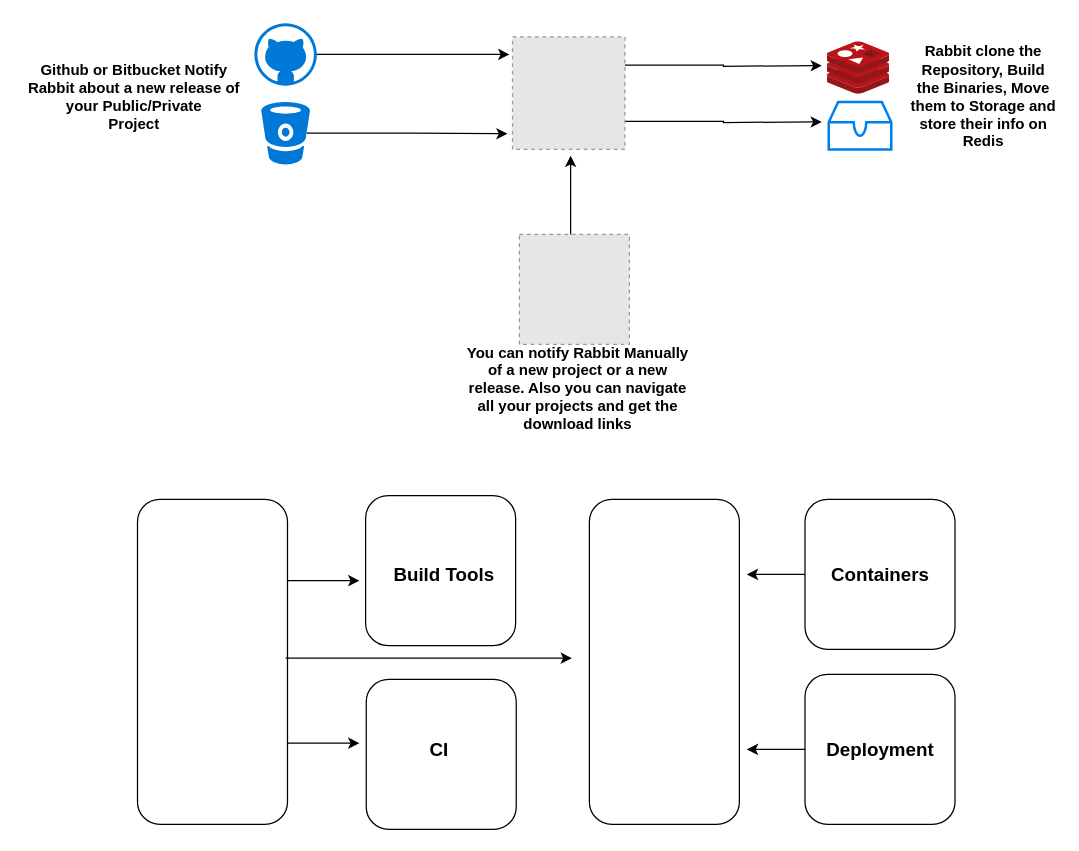
This 1079x851 diagram has some shape labels left out. Grey dashed boxes stand in for pictures. Each missing label, with the centre of its shape:
"Rabbit Binary Builder and Repository" goes at point 663,661.
"Version Control" goes at point 212,661.
